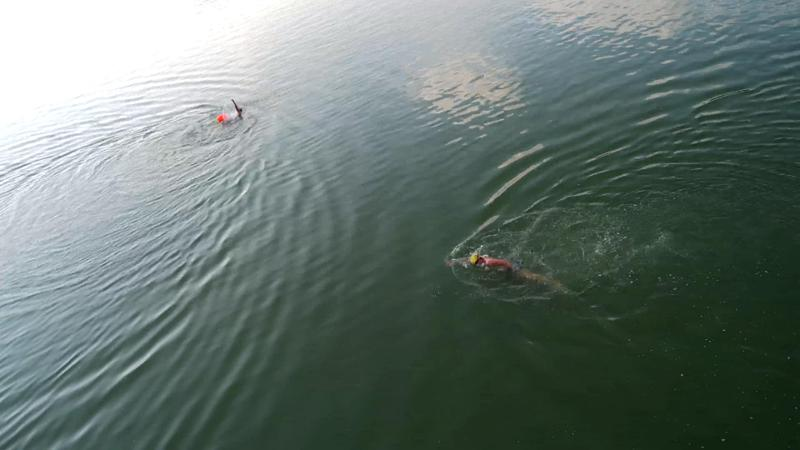swimmers: (445, 254, 550, 285)
